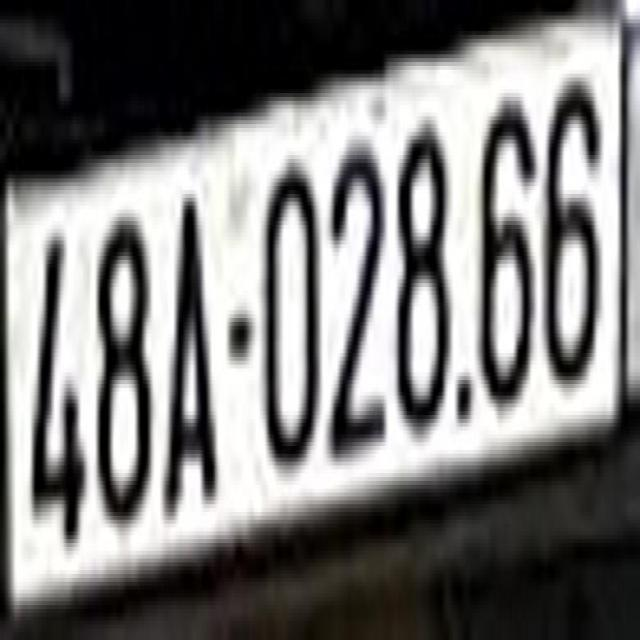0: (259, 151, 320, 485)
2: (326, 148, 388, 462)
4: (22, 225, 85, 562)
6: (543, 70, 606, 400), (480, 85, 540, 411)
8: (96, 213, 152, 528), (396, 120, 453, 427)
A: (164, 178, 218, 536)
